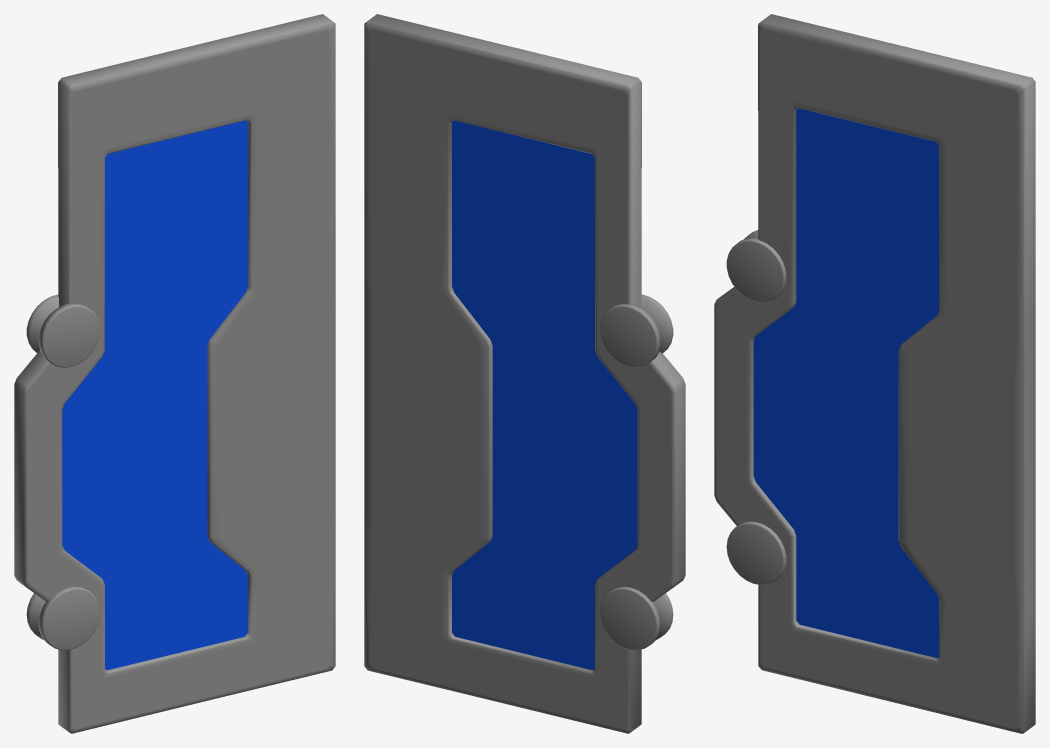
The model's file is Door03_Door02.FBX.
3 views of the same model, side by side, from view 1: azimuth 30°, elevation 25°; view 2: azimuth 150°, elevation 25°; view 3: azimuth 330°, elevation 25° (orthographic).
Visible parts, largest first — view 1: SM_Door03_Door02; view 2: SM_Door03_Door02; view 3: SM_Door03_Door02.
Boxes of the visible parts, bbox=[...] form: SM_Door03_Door02: bbox=[14, 14, 335, 733]; SM_Door03_Door02: bbox=[364, 14, 685, 733]; SM_Door03_Door02: bbox=[714, 14, 1035, 733].
Size of the model in its own units: 131 by 260 by 11.92.
